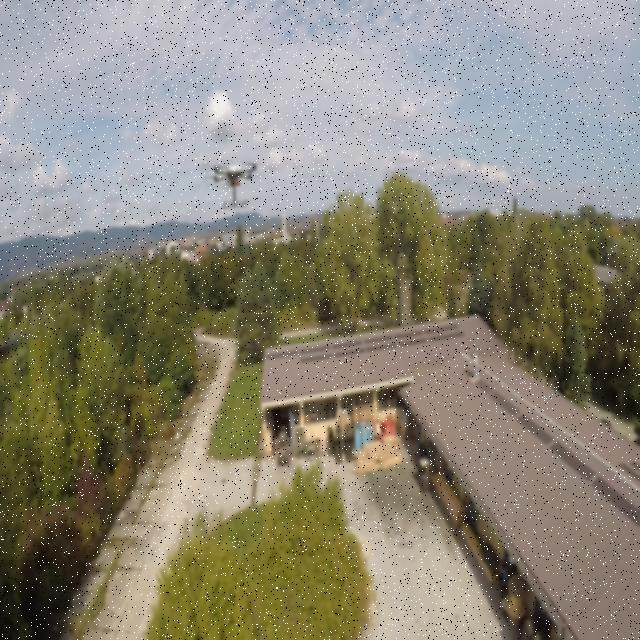UAV: (198, 152, 270, 210)
